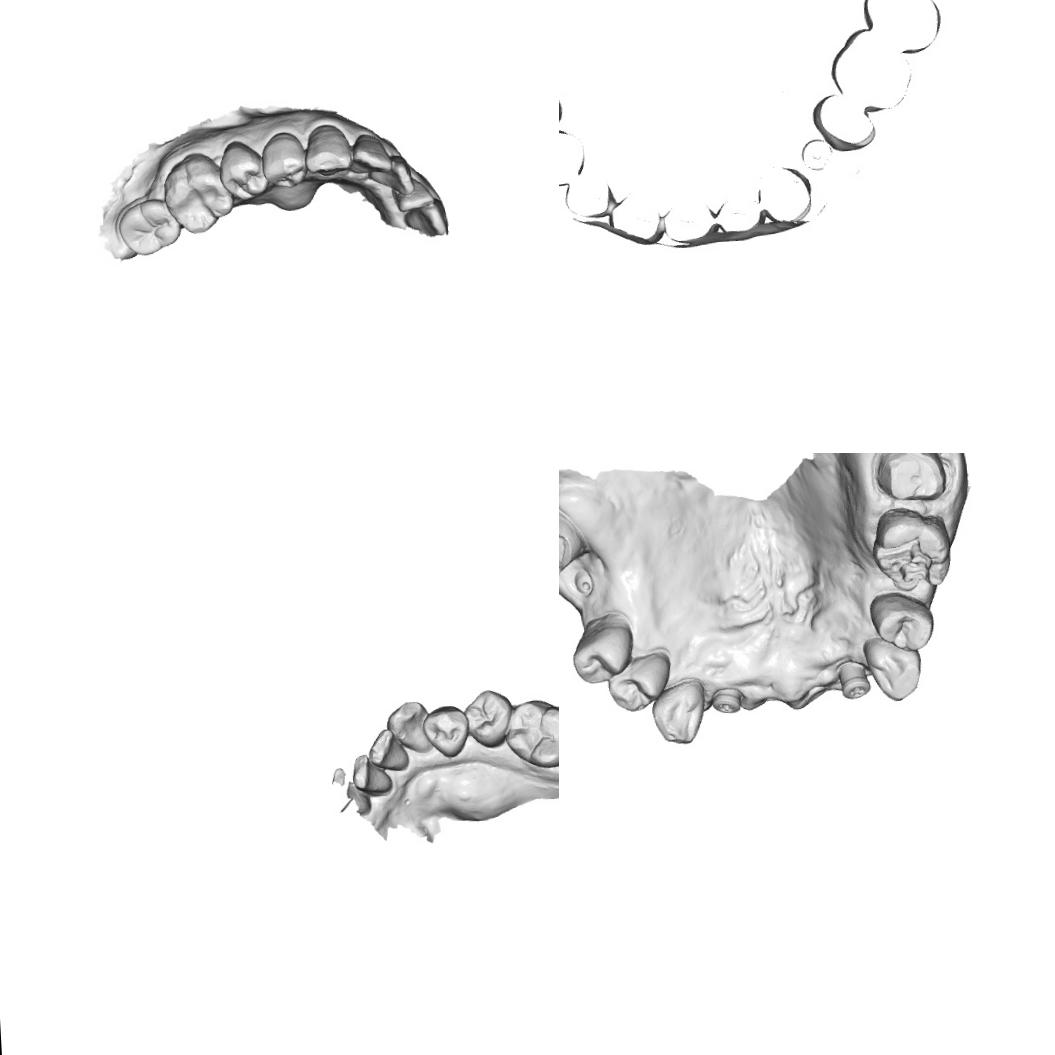canine: (861, 633, 923, 703), (649, 676, 706, 745), (301, 121, 354, 177), (384, 698, 434, 756)
crown: (870, 453, 952, 502)
implant_plus: (833, 656, 872, 702), (710, 686, 743, 716)
incisor: (366, 726, 410, 772), (350, 752, 394, 796), (347, 132, 393, 174), (401, 197, 447, 236), (386, 153, 416, 197), (394, 180, 434, 213)
molar: (866, 503, 954, 594), (160, 150, 235, 235), (501, 696, 559, 770), (115, 196, 182, 256), (559, 503, 582, 587)
premolar: (567, 612, 638, 687), (867, 589, 936, 653), (604, 650, 675, 712), (216, 138, 268, 202), (462, 686, 514, 750), (258, 129, 308, 190), (420, 704, 470, 760)
